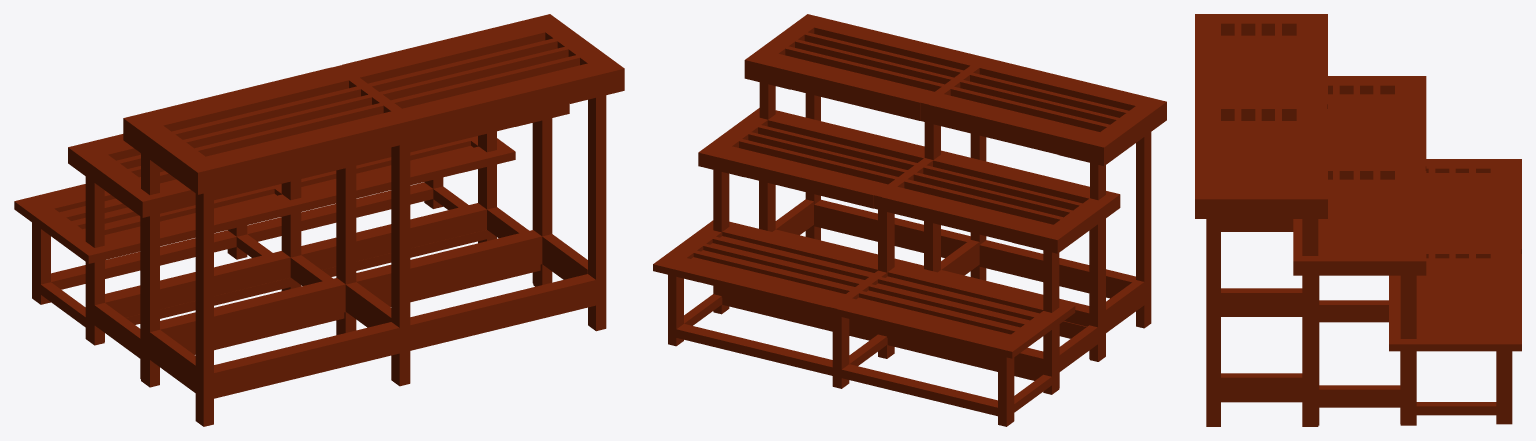
The model's file is Rak Green House.fbx.
The picture shows the model from 3 angles, left to right: view 1: azimuth 30°, elevation 25°; view 2: azimuth 150°, elevation 25°; view 3: azimuth 270°, elevation 25°; orthographic projection. The views are drawn at different scales.
Visible parts, largest first — view 1: Kursi kantin; view 2: Kursi kantin; view 3: Kursi kantin.
Part boxes in pixels (<box>): Kursi kantin: <box>14,14,624,426</box>; Kursi kantin: <box>653,14,1166,426</box>; Kursi kantin: <box>1195,14,1521,426</box>.
Bounding box in the file's own units: 785 × 472 × 585.
Materials: 1 (1 with a texture image).
